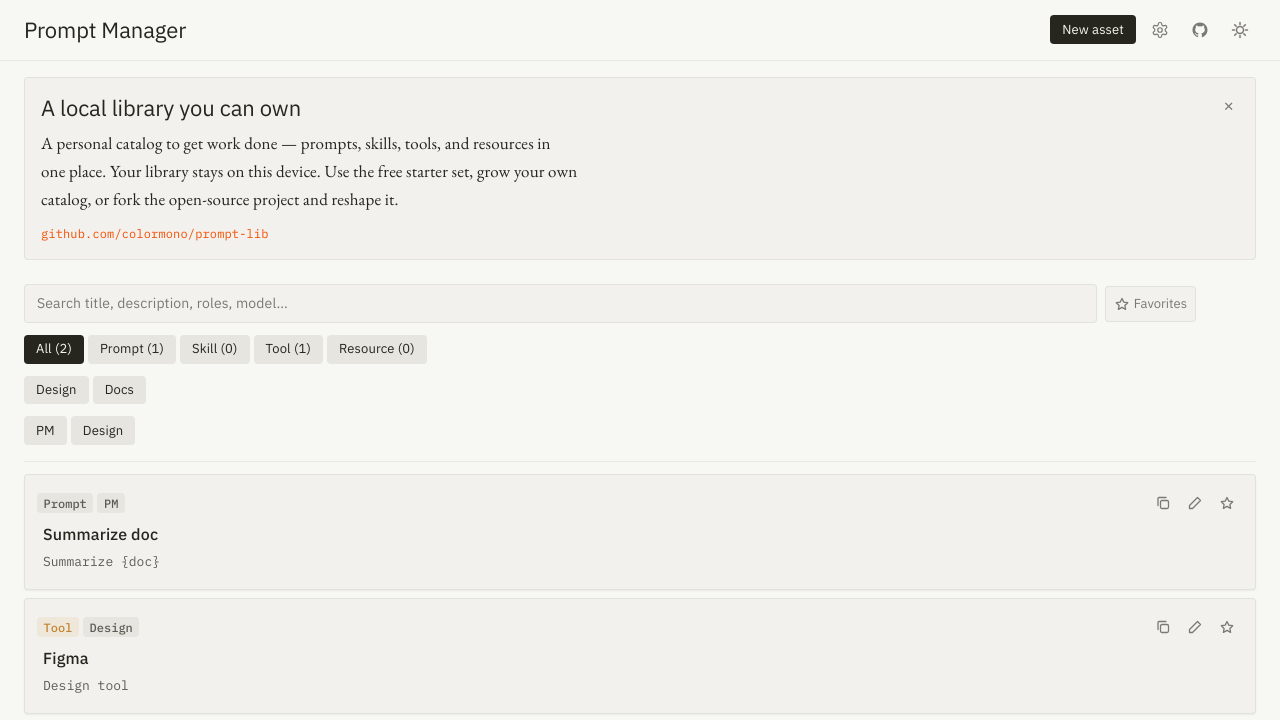
Scenario: App › narrows the list by type
Click the button "Tool (1)" at (288, 349), box [254,335,323,364]
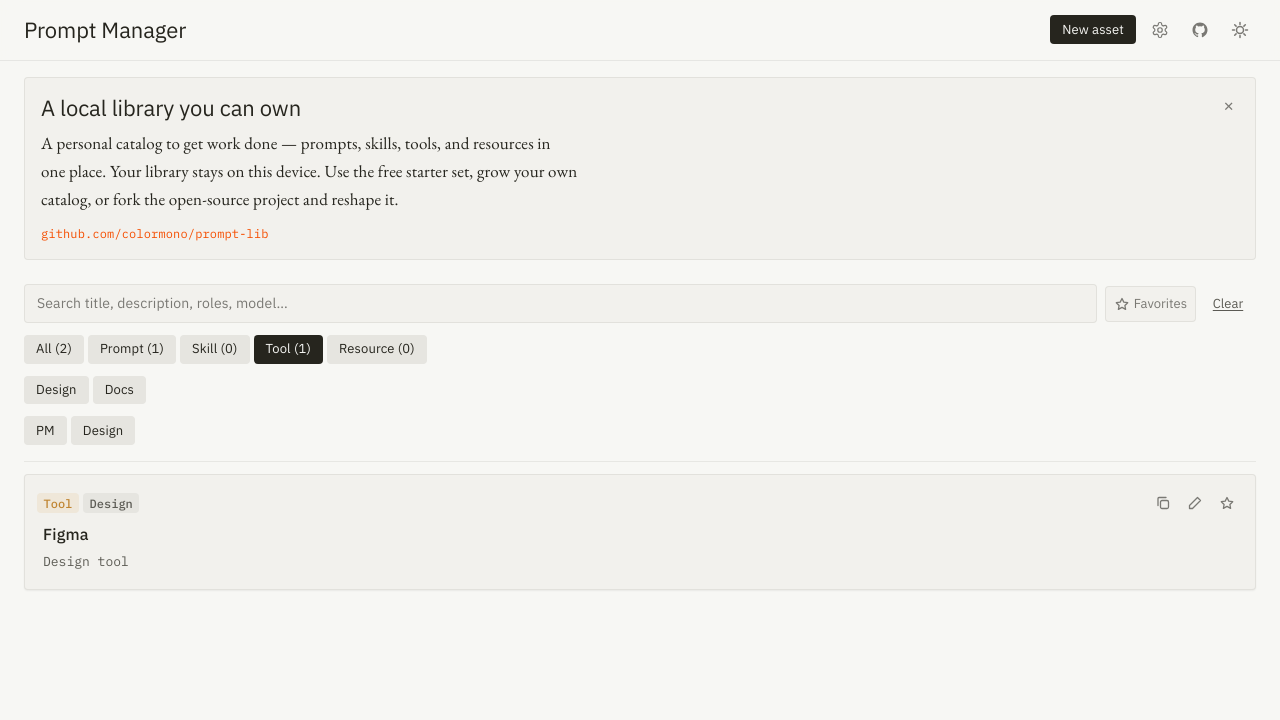
expect the heading "Figma" is shown: met, box [43,524,89,544]
expect the button "Summarize doc" is gone: met
